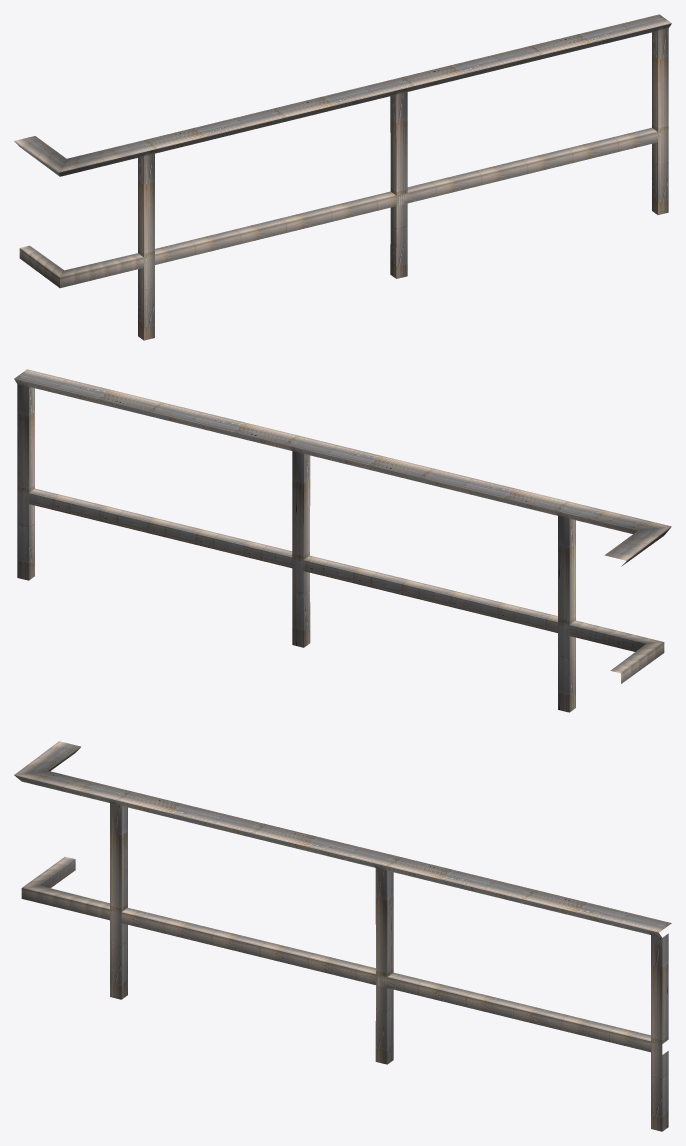
Rendered from M11B_Railing05_C.glb.
3 renders of one model, top to bottom at view 1: azimuth 30°, elevation 25°; view 2: azimuth 150°, elevation 25°; view 3: azimuth 330°, elevation 25°, orthographic. The views are drawn at different scales.
Parts seen in each view (by area): view 1: M11B_RAILING05_C; view 2: M11B_RAILING05_C; view 3: M11B_RAILING05_C.
Part boxes in pixels (x1,y1,x2,y2): M11B_RAILING05_C: [14, 14, 671, 340]; M11B_RAILING05_C: [14, 369, 671, 712]; M11B_RAILING05_C: [14, 741, 671, 1131].
Bounding box in the file's own units: 3.55 × 1.06 × 0.44.
1 material, 1 textured.
